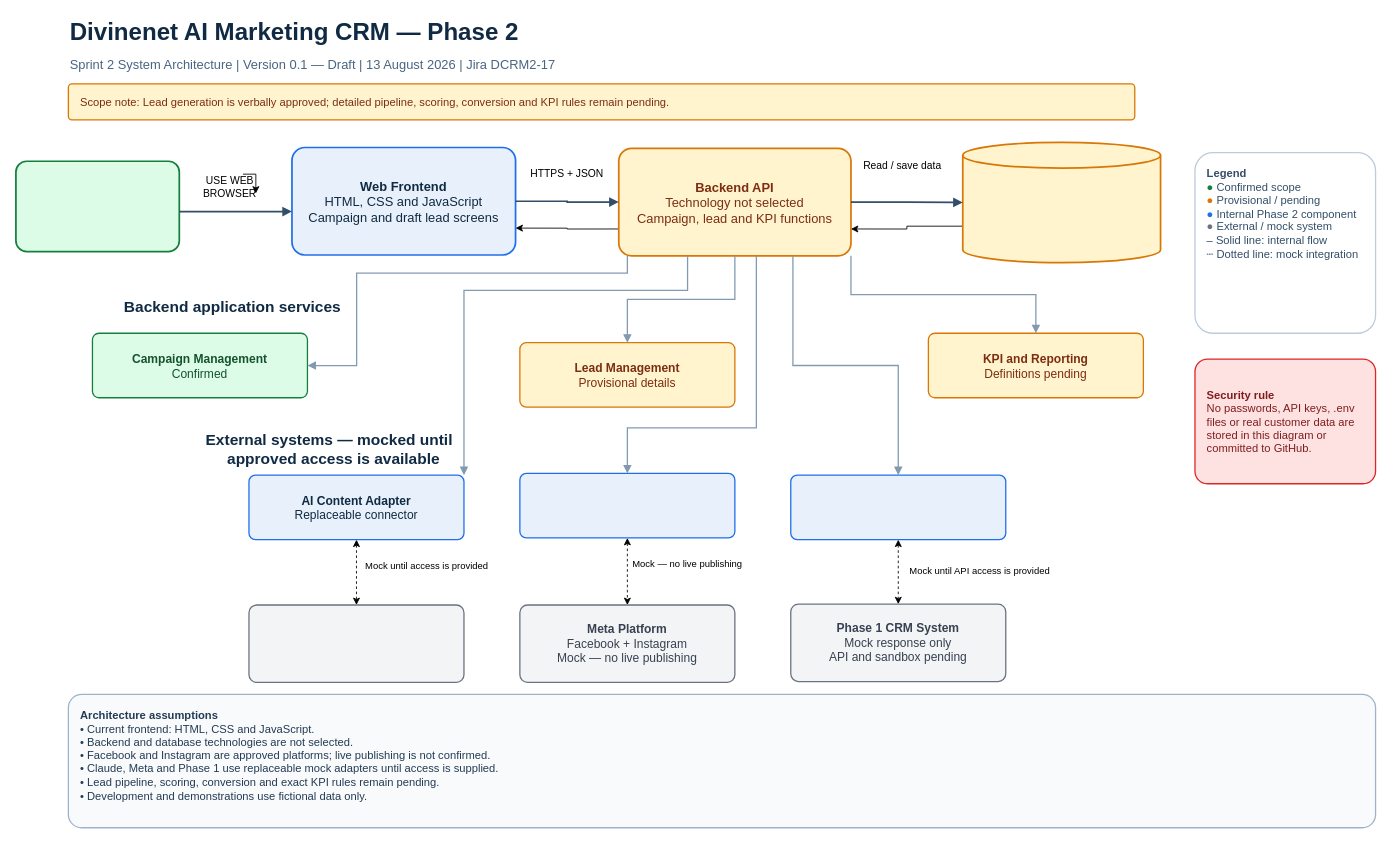
The diagram is 1391 pixels wide and 843 high, and some of its shapes have lost their labels. Each missing label, with the box of its shape:
Claude AI Mock response only Access and quota pending: (248, 604, 464, 683)
Database Technology not selected Campaigns, leads and KPI results: (961, 141, 1161, 263)
Marketing Team User Uses a web browser: (15, 160, 180, 252)
Phase 1 Adapter Replaceable connector: (790, 474, 1006, 540)
Social Media Adapter Replaceable connector: (519, 472, 735, 538)
